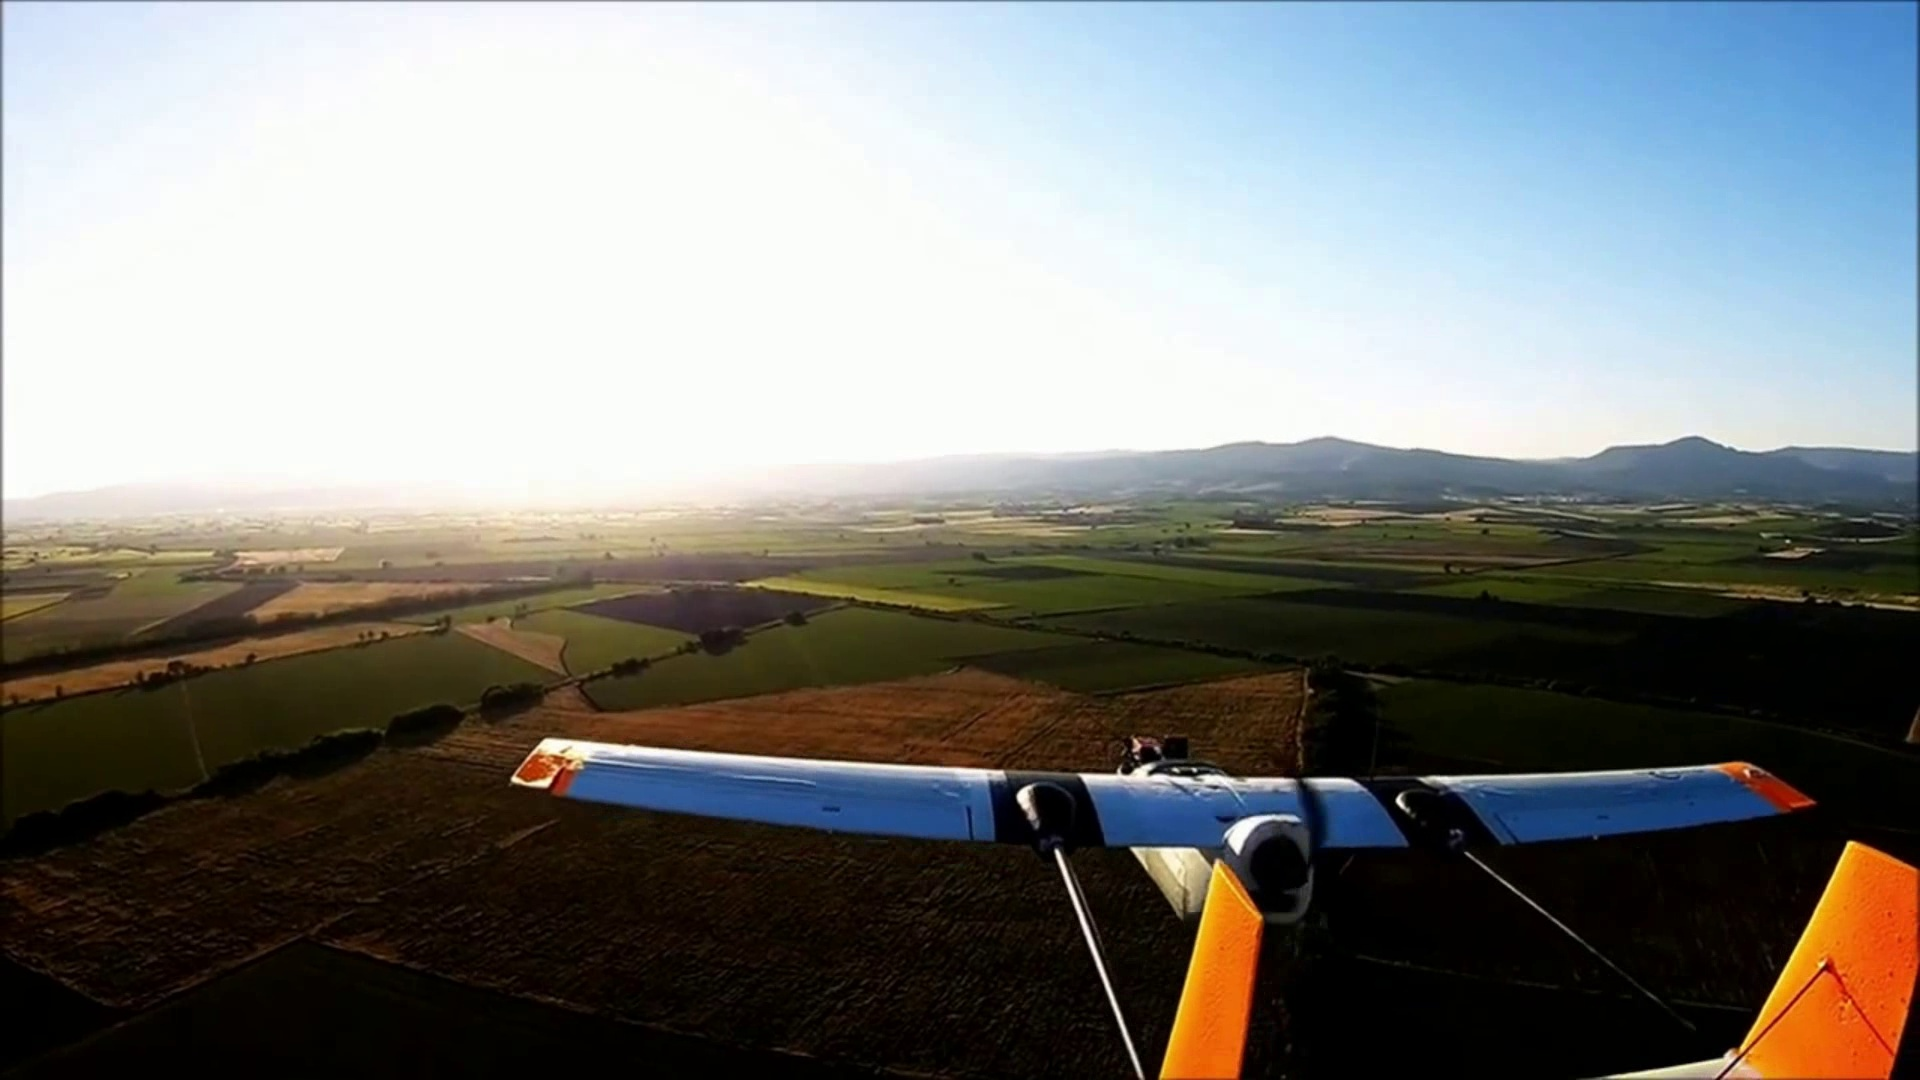airplane: (508, 733, 1917, 1067)
